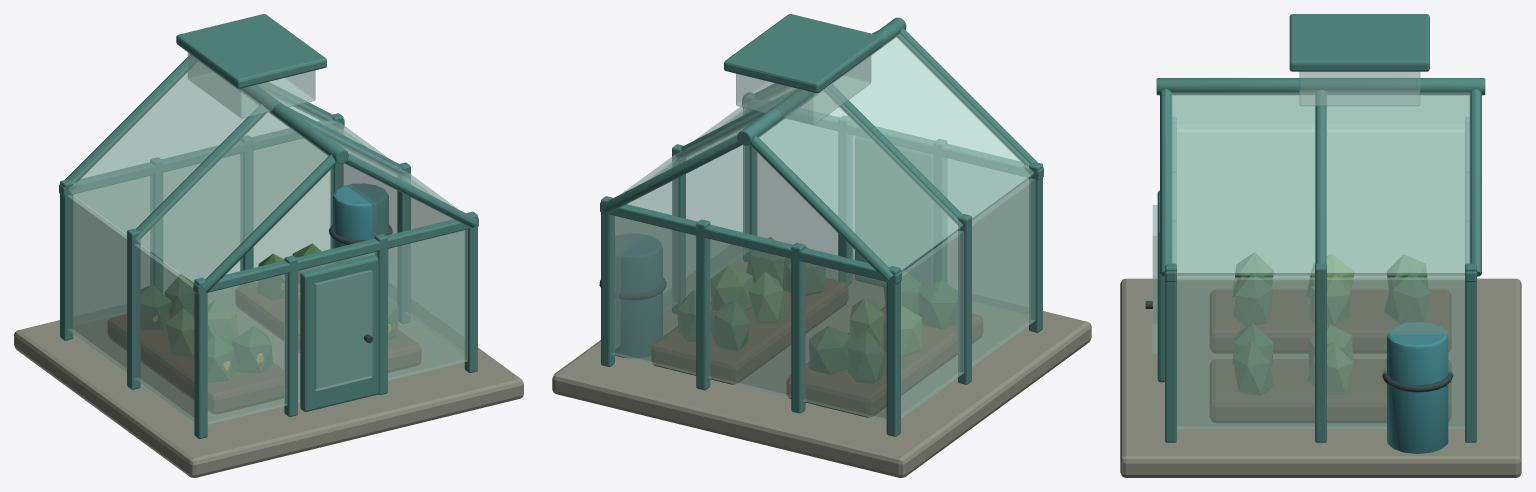
File: greenhouse.glb
The picture shows the model from 3 angles, left to right: view 1: azimuth 30°, elevation 25°; view 2: azimuth 150°, elevation 25°; view 3: azimuth 270°, elevation 25°; orthographic projection. The views are drawn at different scales.
Parts seen in each view (by area): view 1: greenhouse · glass, greenhouse · copper, greenhouse · stone, greenhouse · soil, greenhouse · leaf, greenhouse · water, greenhouse · leaf_light; view 2: greenhouse · glass, greenhouse · copper, greenhouse · stone, greenhouse · soil, greenhouse · leaf, greenhouse · leaf_light, greenhouse · water; view 3: greenhouse · glass, greenhouse · stone, greenhouse · copper, greenhouse · soil, greenhouse · water, greenhouse · leaf, greenhouse · leaf_light, greenhouse · metal.
Boxes of the visible parts, x1,y1,x2,y2 form: greenhouse · glass: (67,52,467,424); greenhouse · copper: (59,14,478,438); greenhouse · stone: (14,281,523,477); greenhouse · soil: (108,282,421,414); greenhouse · leaf: (141,243,398,381); greenhouse · water: (332,183,388,264); greenhouse · leaf_light: (166,284,299,356); greenhouse · glass: (612,33,1035,421); greenhouse · copper: (600,14,1043,436); greenhouse · stone: (552,256,1091,477); greenhouse · soil: (651,278,982,417); greenhouse · leaf: (677,237,957,383); greenhouse · leaf_light: (711,265,921,356); greenhouse · water: (615,235,662,358); greenhouse · glass: (1152,71,1470,428); greenhouse · stone: (1120,278,1521,477); greenhouse · copper: (1156,14,1485,442); greenhouse · soil: (1210,290,1451,422); greenhouse · water: (1387,322,1448,453); greenhouse · leaf: (1232,252,1431,395); greenhouse · leaf_light: (1307,254,1354,394); greenhouse · metal: (1145,301,1453,392).
Size of the model in its own units: 0.89 by 0.8025 by 0.83.
